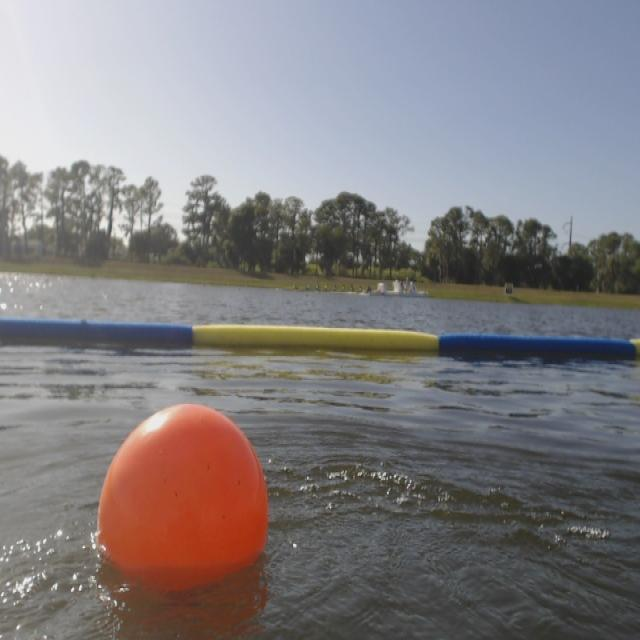Orange__Buoy: (87, 388, 274, 590)
